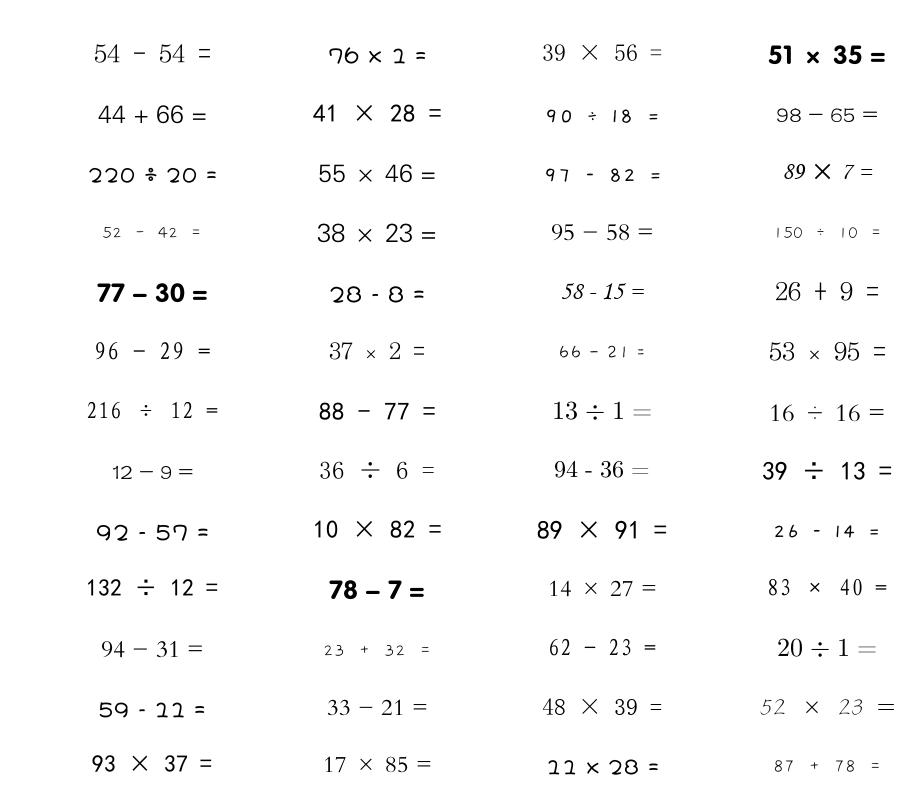MQ: (762, 461, 892, 480), (537, 520, 667, 539), (313, 520, 442, 539), (317, 223, 437, 243), (86, 401, 218, 419), (768, 45, 886, 65), (769, 341, 886, 361), (313, 104, 442, 122), (86, 579, 218, 596), (318, 164, 436, 183), (94, 44, 211, 63), (97, 283, 208, 303), (767, 578, 887, 596), (760, 699, 895, 715), (94, 342, 211, 360), (319, 402, 436, 420), (769, 404, 885, 422), (319, 461, 435, 479), (775, 281, 879, 301), (98, 105, 207, 124), (88, 167, 217, 183), (542, 44, 662, 61), (542, 698, 662, 715), (92, 755, 212, 772), (548, 638, 656, 656), (96, 524, 209, 541), (329, 580, 425, 600), (552, 401, 652, 420), (777, 638, 877, 657), (548, 580, 657, 597), (323, 756, 432, 773), (546, 759, 659, 775), (551, 224, 654, 241), (101, 641, 204, 658), (329, 342, 425, 360), (554, 460, 650, 478), (98, 702, 206, 718), (327, 699, 428, 716), (328, 47, 427, 64), (543, 168, 662, 182), (329, 286, 425, 303), (544, 109, 660, 123), (782, 163, 873, 180), (773, 524, 881, 538), (776, 108, 878, 122), (560, 283, 644, 300), (773, 226, 882, 239), (773, 760, 882, 773), (323, 645, 432, 657), (102, 226, 202, 239), (558, 345, 646, 359), (112, 465, 193, 479)
